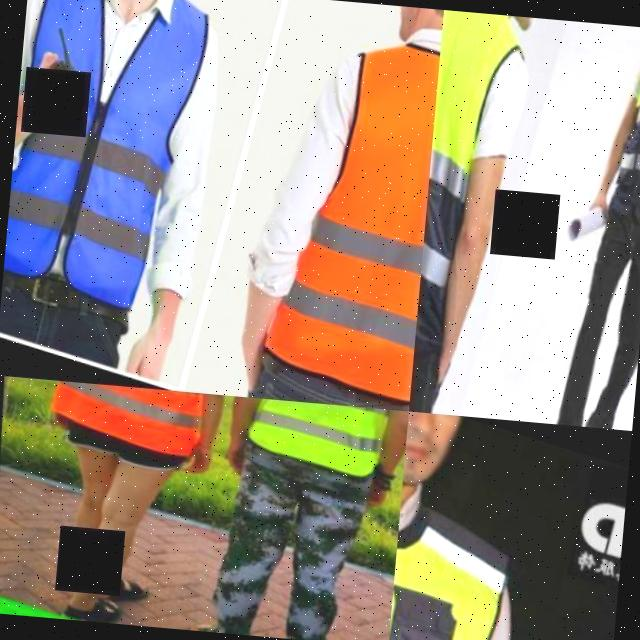vest: (0, 0, 224, 325), (257, 37, 440, 404), (412, 9, 539, 380), (387, 473, 533, 640), (222, 396, 408, 496), (39, 379, 229, 464), (585, 23, 640, 226)
